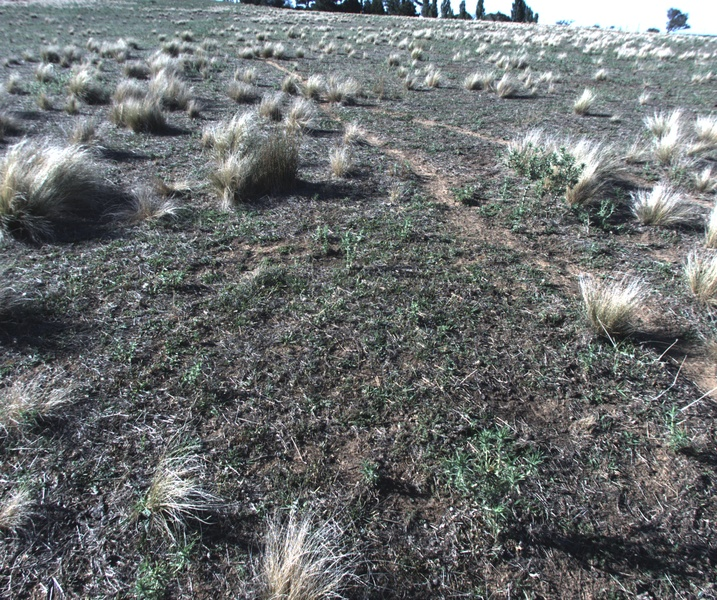st: (1, 149, 117, 228), (249, 511, 346, 600), (138, 435, 207, 524), (578, 264, 656, 341), (1, 363, 74, 432), (110, 77, 187, 133), (627, 184, 695, 236), (552, 146, 603, 209), (636, 113, 684, 167), (195, 122, 257, 159), (259, 93, 320, 128), (680, 251, 717, 299), (1, 489, 42, 528), (217, 151, 245, 199), (324, 142, 358, 177), (700, 203, 717, 259), (339, 120, 372, 146)
